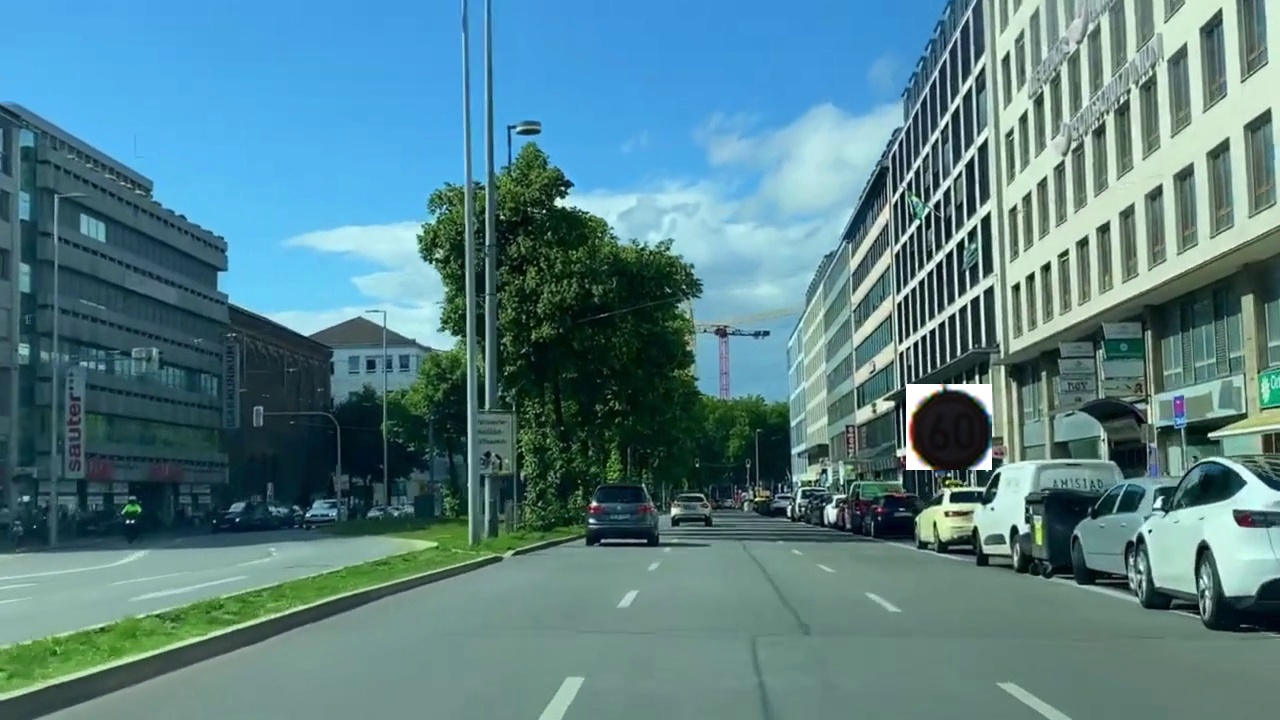Speed 60: (906, 384, 992, 470)
